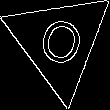O_S: (31, 10, 88, 74)
